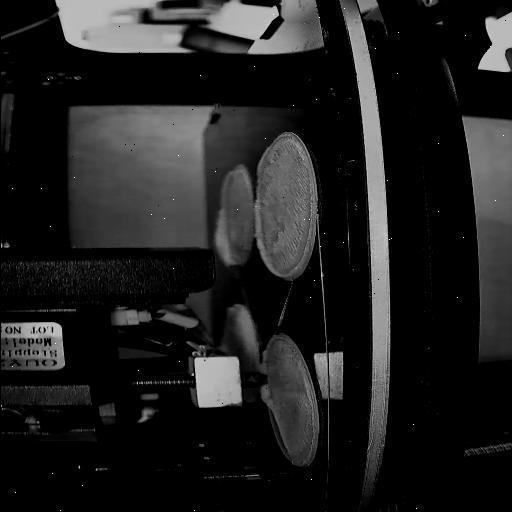over_extrusion: (250, 197, 316, 278), (259, 383, 291, 453), (212, 208, 241, 268), (252, 146, 272, 180), (216, 171, 234, 205), (258, 348, 266, 374)
